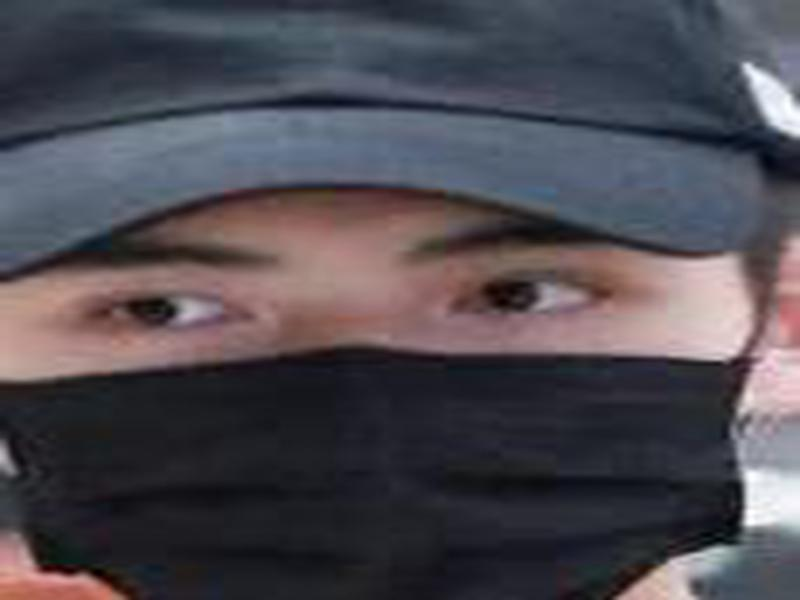with_mask: (1, 196, 771, 600)
